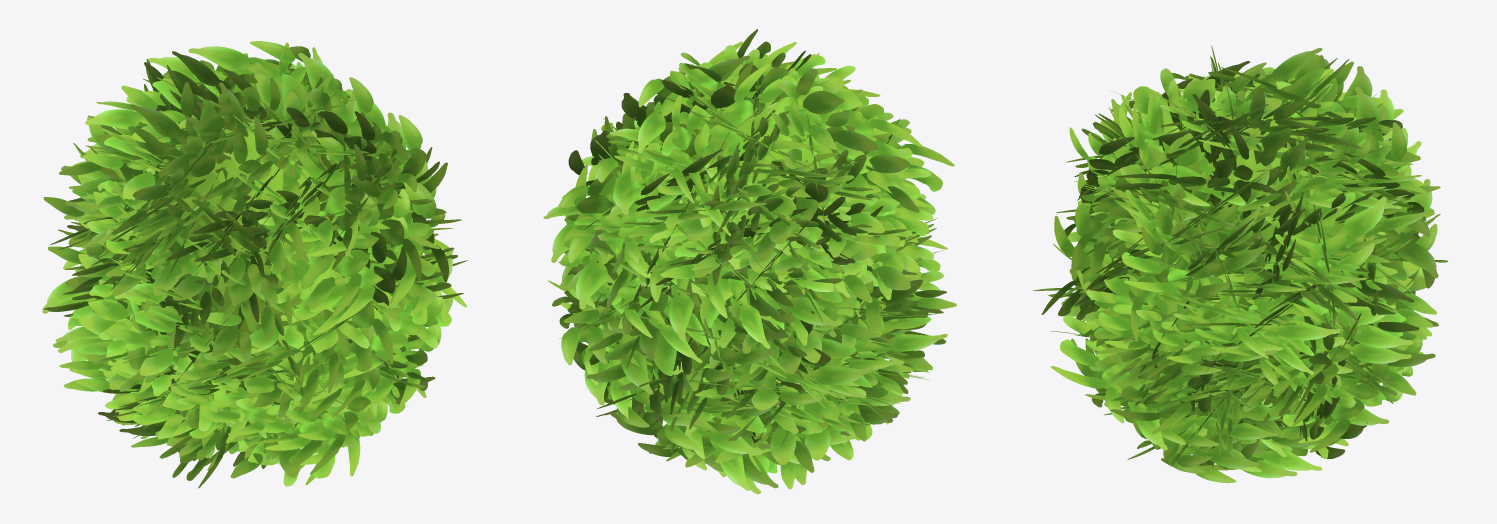
The model's file is Tree.fbx.
The picture shows the model from 3 angles, left to right: view 1: azimuth 30°, elevation 25°; view 2: azimuth 150°, elevation 25°; view 3: azimuth 270°, elevation 25°; orthographic projection.
Parts seen in each view (by area): view 1: Cube; view 2: Cube; view 3: Cube.
Boxes of the visible parts, bbox=[...] form: Cube: bbox=[42, 41, 467, 488]; Cube: bbox=[543, 29, 956, 494]; Cube: bbox=[1033, 45, 1448, 483].
Size of the model in its own units: 2524 by 2592 by 2552.
